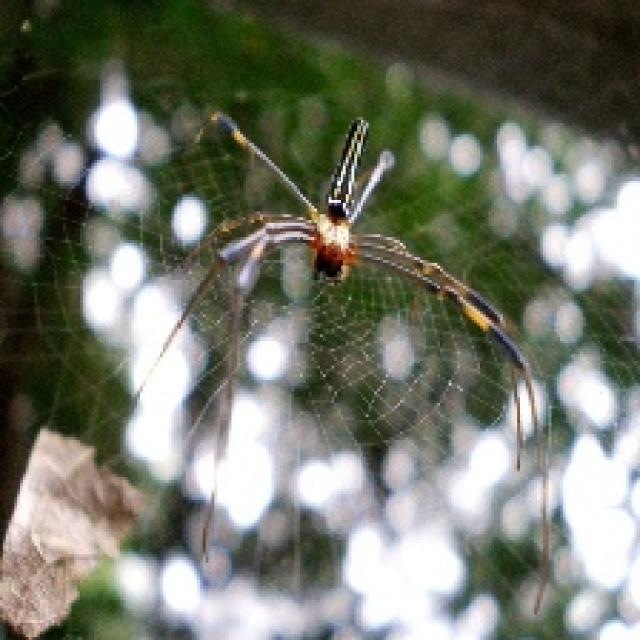Non venomous spider: (76, 54, 602, 626)
